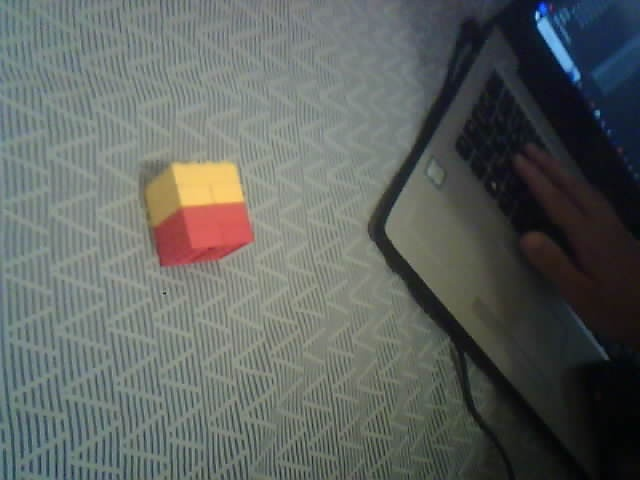lego: (143, 159, 256, 267)
